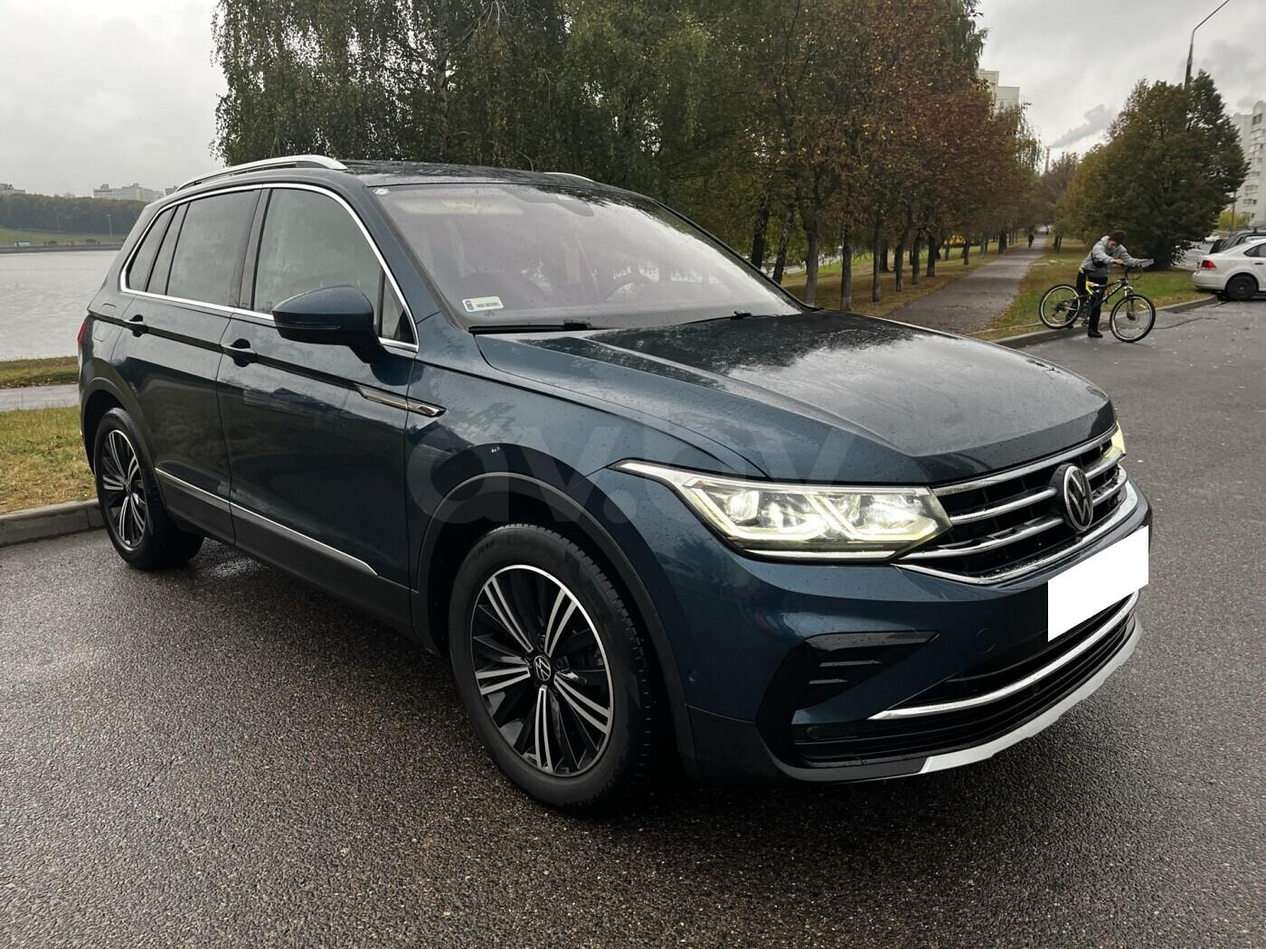Tiguan_2020-2024: (71, 163, 1152, 811)
